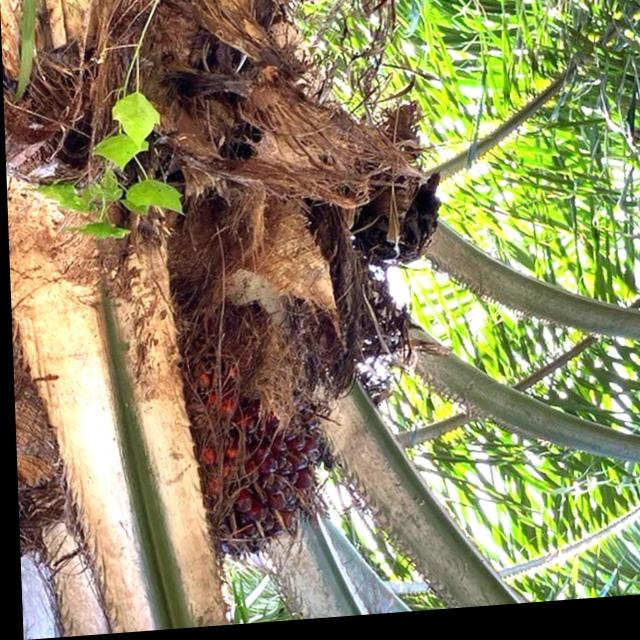ripe: (179, 358, 331, 573)
